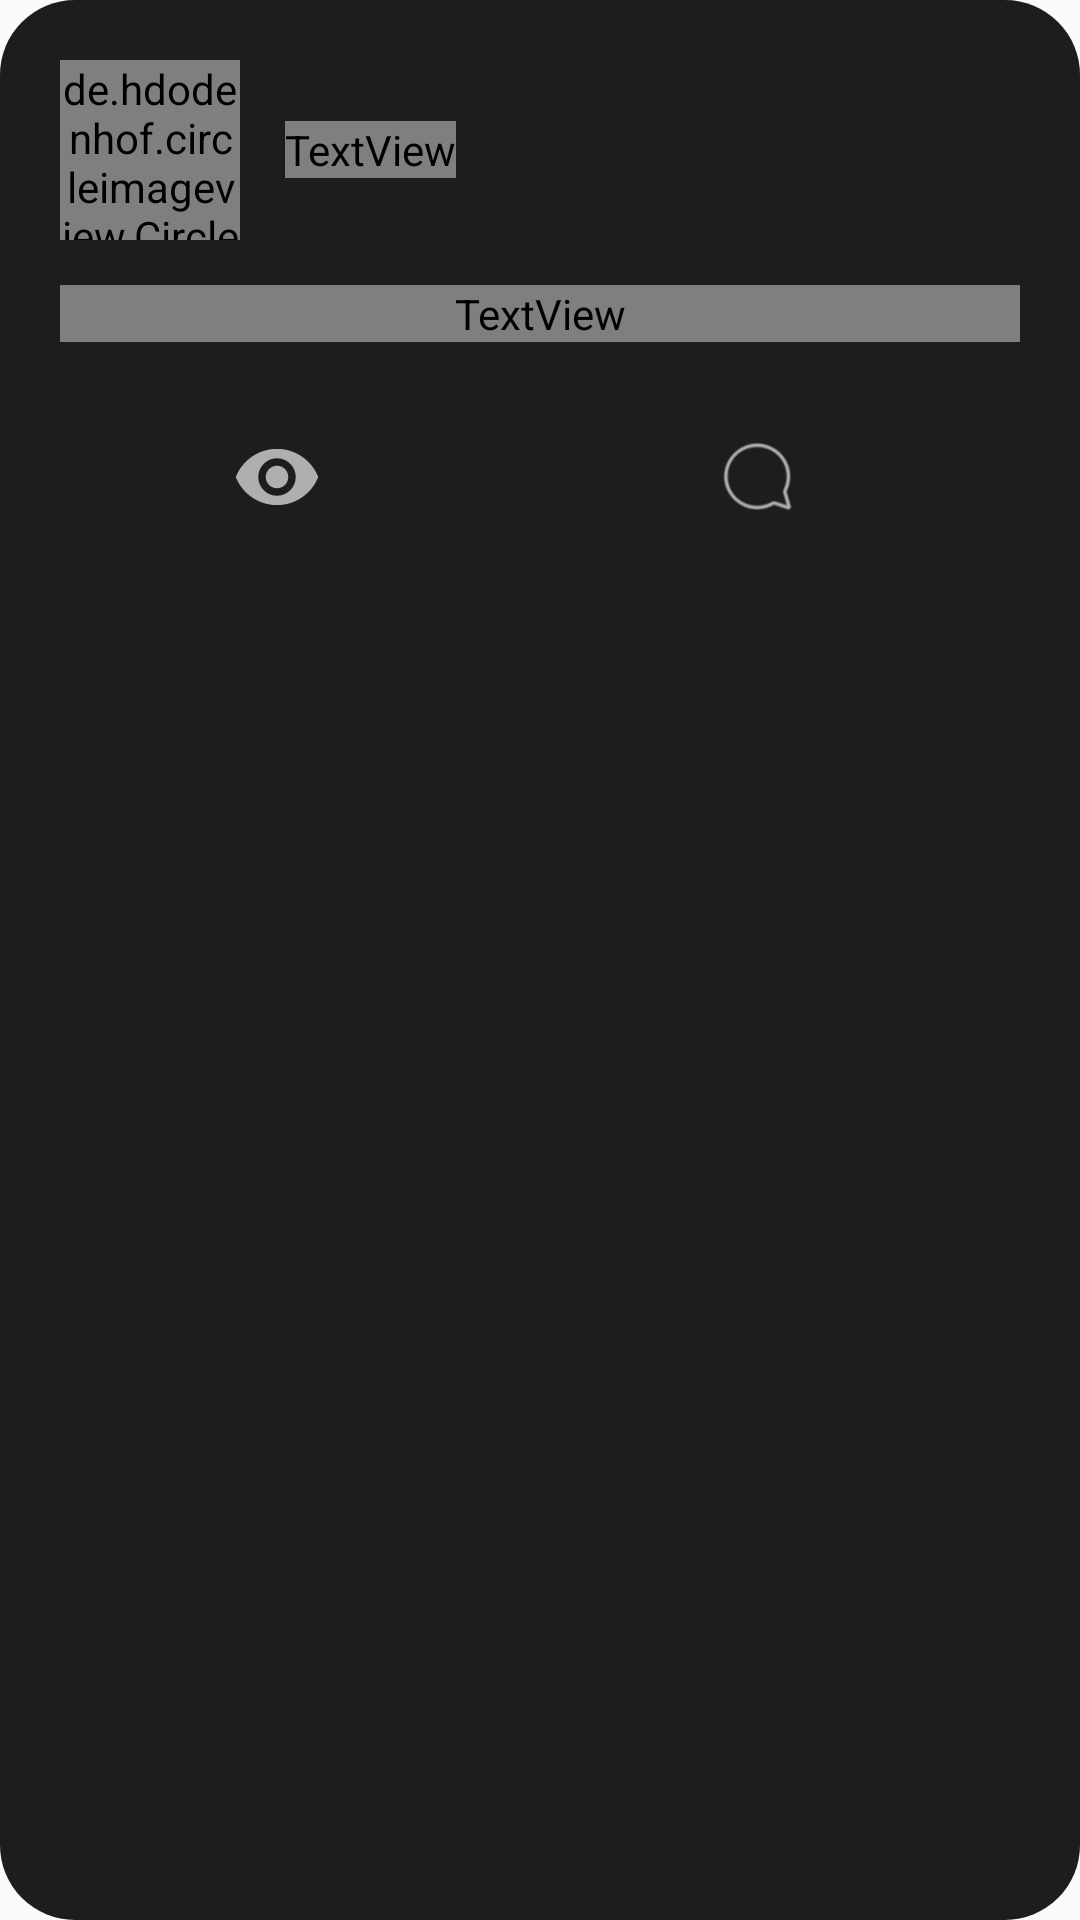

Point at icon controls on the screen. Image size 1080 × 1920, points as (x=x, y=y).
comment: (x=757, y=476)
seen: (x=277, y=477)
